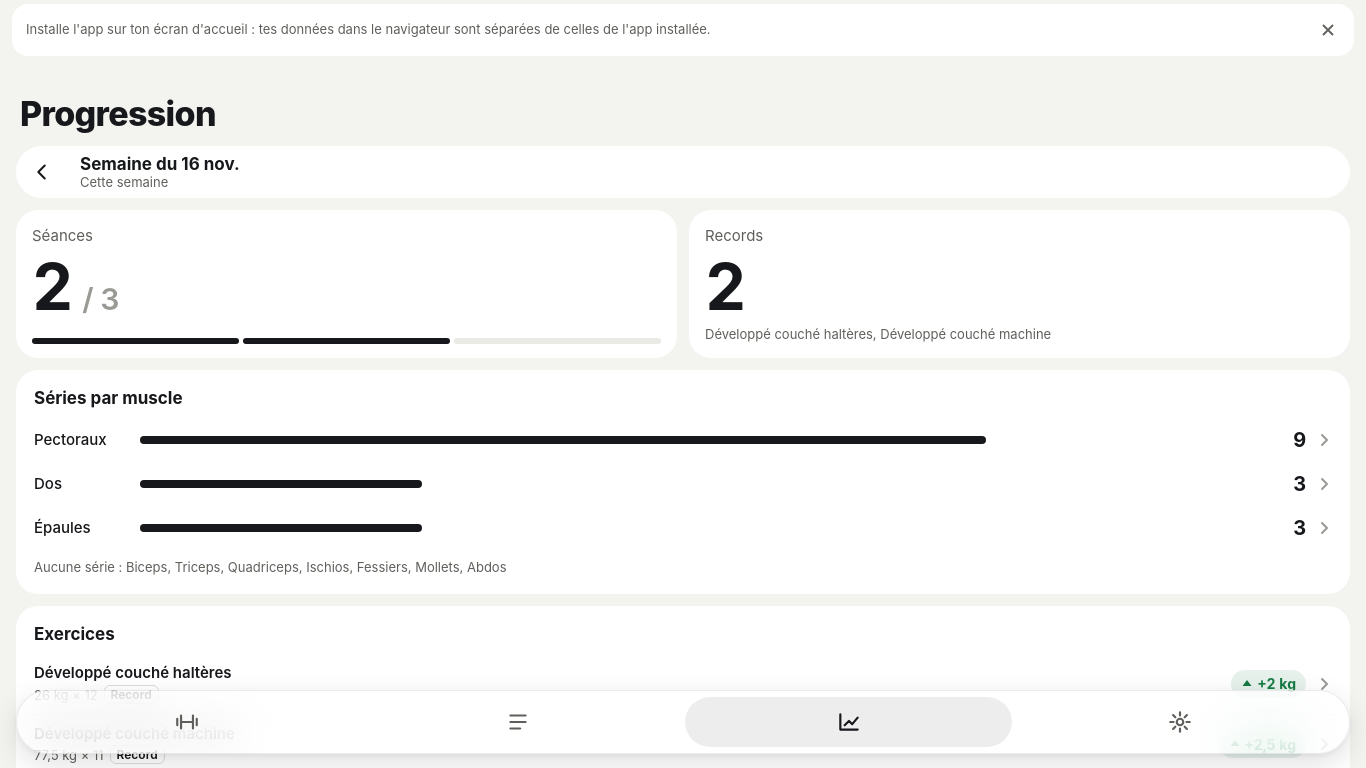
Test: Progression › « Semaine précédente » charge la semaine d'avant
Expected: the text "Semaine du 16 nov." is shown, [80,154,240,174]
Step 1. Click the button named "Semaine précédente" → (42, 172), box [20,150,64,194]
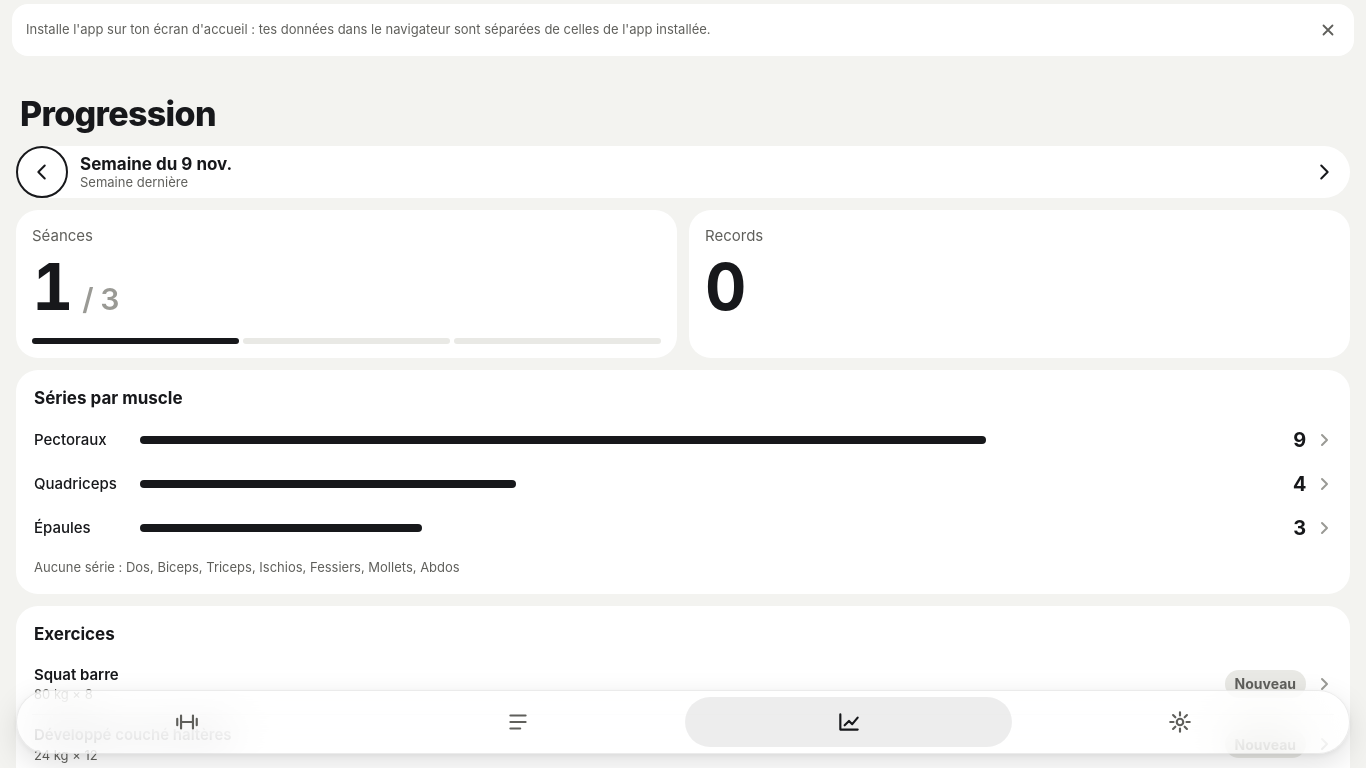
Result: the text "Semaine du 9 nov." is shown at [80,154,232,174]
Result: the text "Séances" shows "1 / 3" at [16,210,677,358]
Result: the buttons read "Pectoraux9", "Quadriceps4", "Épaules3", in this order at [32,418,1334,462]; [32,462,1334,506]; [32,506,1334,550]
